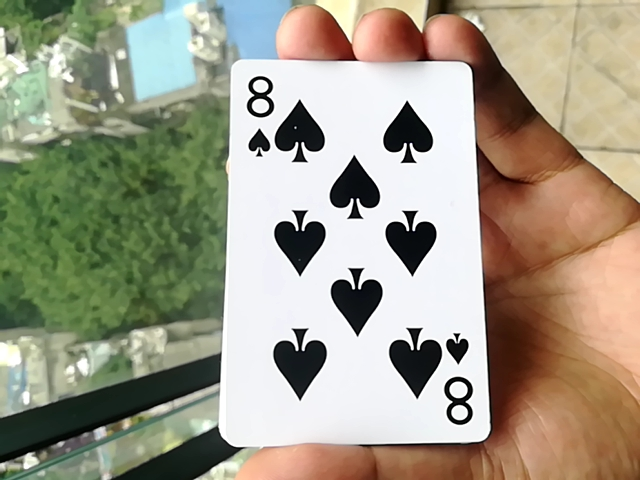ht 8: (217, 47, 479, 452)
